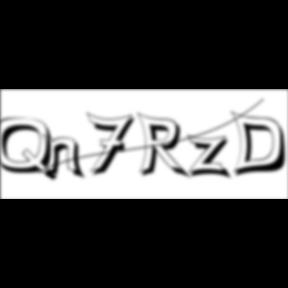7: (86, 111, 142, 179)
Q: (0, 117, 60, 184)
R: (138, 112, 194, 182)
n: (42, 132, 88, 181)
z: (186, 134, 235, 182)
